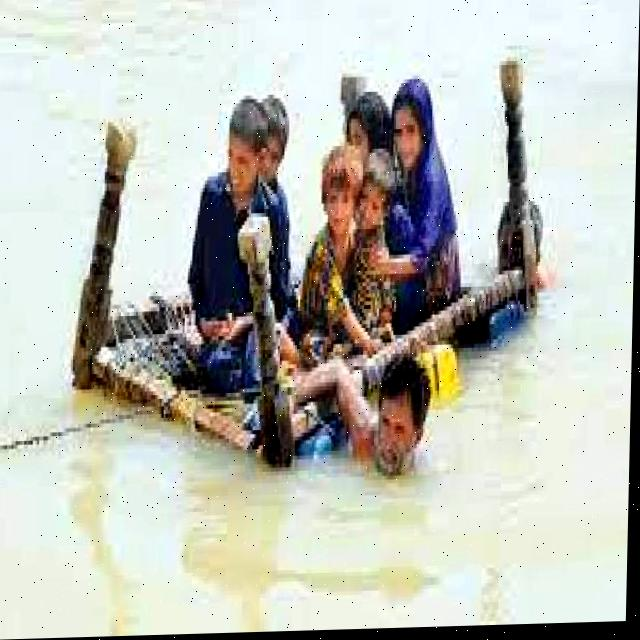civilian: (200, 99, 310, 364), (297, 340, 456, 489), (382, 67, 464, 317), (309, 141, 363, 369), (253, 84, 303, 292), (349, 149, 395, 339), (337, 91, 401, 176)
